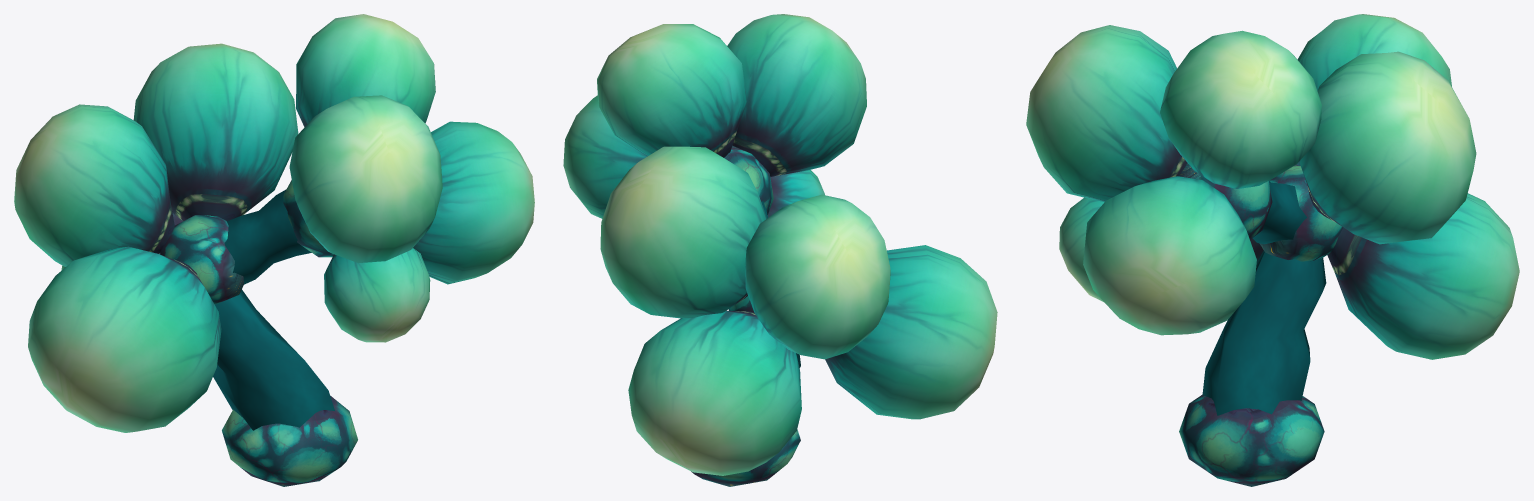
Rendered from Bio_cargo_01_c.fbx.
The picture shows the model from 3 angles, left to right: view 1: azimuth 30°, elevation 25°; view 2: azimuth 150°, elevation 25°; view 3: azimuth 270°, elevation 25°; orthographic projection. The views are drawn at different scales.
Visible parts, largest first — view 1: Bio_cargo_01_c; view 2: Bio_cargo_01_c; view 3: Bio_cargo_01_c.
Part boxes in pixels (<box>): Bio_cargo_01_c: <box>14,14,534,486</box>; Bio_cargo_01_c: <box>563,14,997,486</box>; Bio_cargo_01_c: <box>1026,14,1519,486</box>.
Bounding box in the file's own units: 3.26 × 3.05 × 2.88.
